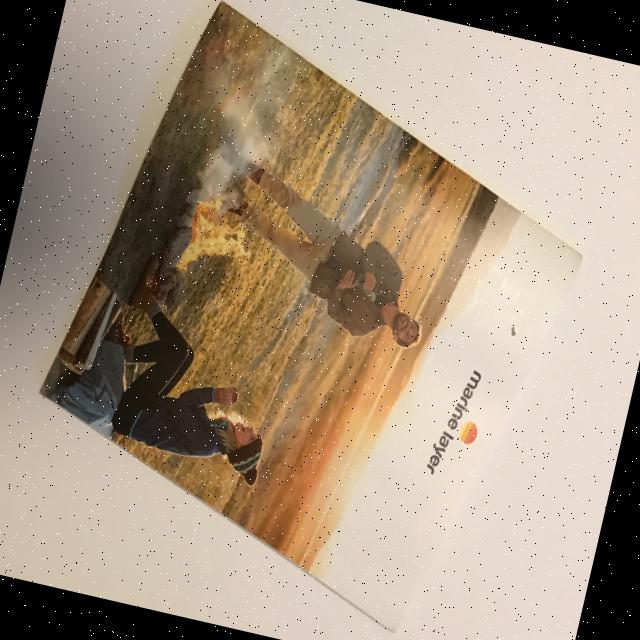paper: (1, 0, 622, 640)
